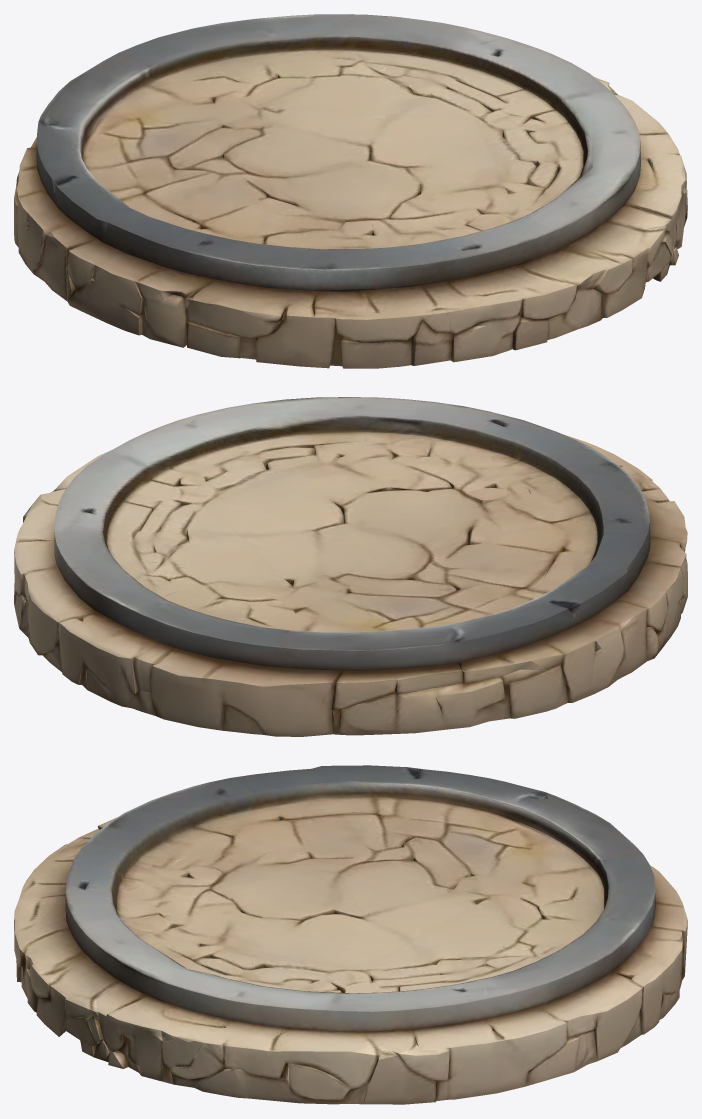
Rendered from m2CircularPlatform.glb.
3 views of the same model, one above another, from view 1: azimuth 30°, elevation 25°; view 2: azimuth 150°, elevation 25°; view 3: azimuth 270°, elevation 25° (orthographic). The views are drawn at different scales.
Parts seen in each view (by area): view 1: model; view 2: model; view 3: model.
Part boxes in pixels (<box>): model: <box>14,14,687,368</box>; model: <box>14,397,687,736</box>; model: <box>14,765,687,1104</box>.
Size of the model in its own units: 1.85 by 0.2428 by 1.9.
1 material, 1 textured.
